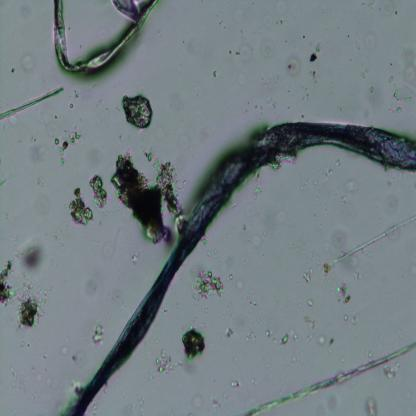Background material: (114, 152, 180, 241), (333, 216, 416, 264), (0, 355, 54, 406), (120, 91, 154, 129), (280, 41, 309, 80), (69, 186, 94, 226), (52, 128, 79, 165), (193, 269, 225, 299), (181, 330, 208, 364), (18, 293, 42, 329), (19, 138, 49, 166), (0, 260, 18, 303), (21, 238, 45, 269), (89, 174, 109, 211), (154, 348, 180, 375), (230, 36, 256, 63), (398, 47, 416, 86), (328, 278, 352, 307), (342, 175, 360, 207), (78, 278, 102, 301), (12, 51, 34, 76), (392, 84, 414, 104), (388, 102, 407, 123), (253, 169, 267, 197), (249, 229, 264, 253), (222, 372, 240, 390), (90, 324, 104, 346), (365, 394, 379, 414), (306, 316, 317, 340), (221, 323, 237, 338), (238, 248, 250, 267), (259, 326, 274, 340), (317, 336, 336, 347), (307, 68, 319, 83), (362, 82, 377, 94), (302, 270, 314, 284), (308, 50, 319, 64), (279, 334, 290, 345), (384, 368, 396, 378), (129, 256, 140, 266), (307, 294, 316, 306), (209, 66, 217, 78), (247, 336, 256, 344), (39, 179, 44, 187)
Cellulose filter fibre: (241, 343, 416, 414), (50, 1, 163, 76), (0, 84, 66, 124)
Cotton: (63, 121, 416, 412)
